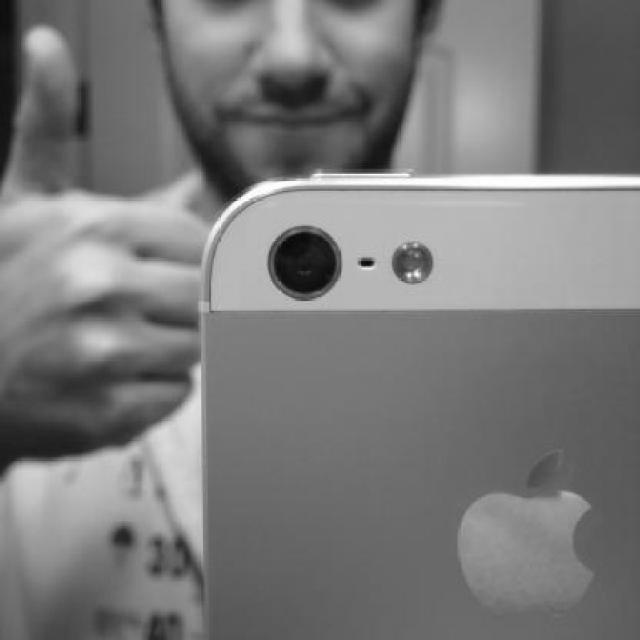fake: (183, 166, 640, 640)
